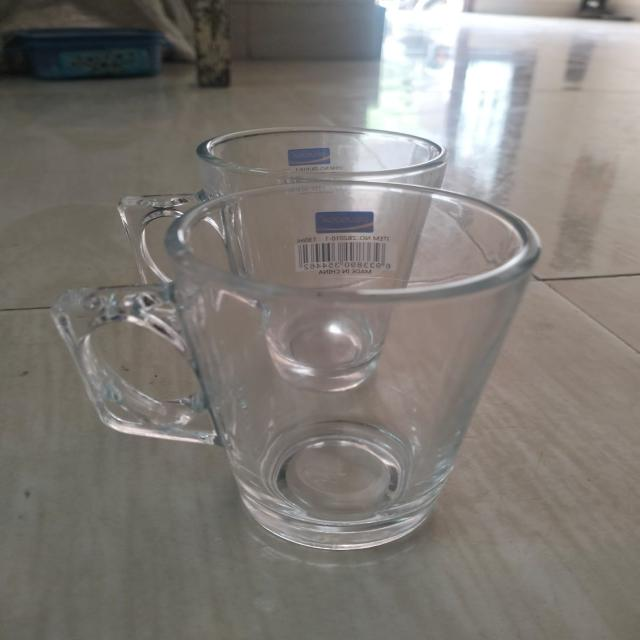glass-VX4N: (48, 182, 528, 555), (124, 125, 452, 392)
